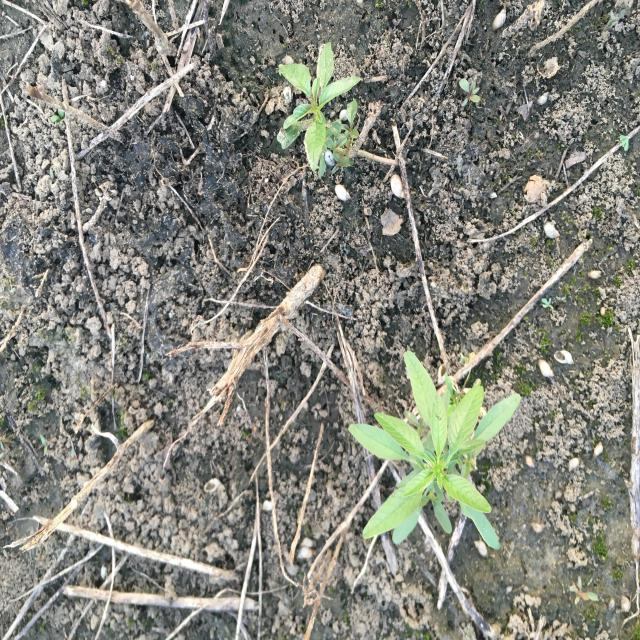Waterhemp: (347, 349, 522, 552), (275, 39, 363, 180)
